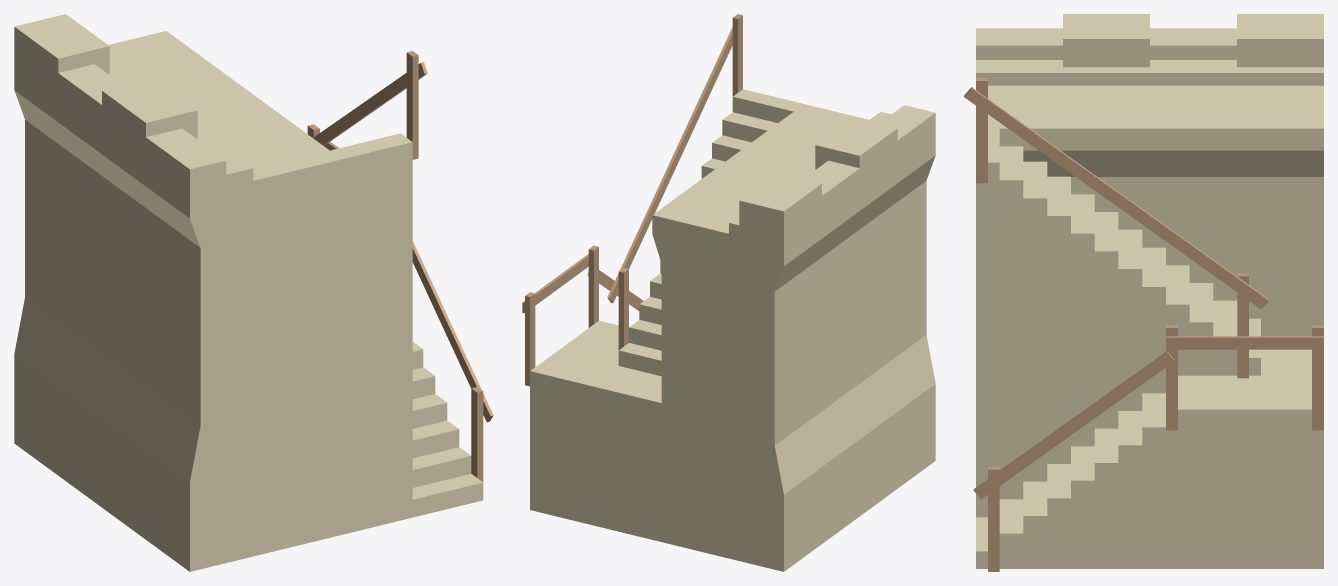
The model's file is wallnarrowstairsfence.glb.
3 renders of one model, left to right at view 1: azimuth 30°, elevation 25°; view 2: azimuth 150°, elevation 25°; view 3: azimuth 270°, elevation 25°, orthographic. The views are drawn at different scales.
Parts seen in each view (by area): view 1: wallNarrowStairsFence, rail 13; view 2: wallNarrowStairsFence, rail 13; view 3: wallNarrowStairsFence, rail 13.
Boxes of the visible parts, x1,y1,x2,y2 form: wallNarrowStairsFence: (14, 14, 483, 571); rail 13: (307, 51, 493, 481); wallNarrowStairsFence: (530, 89, 935, 571); rail 13: (522, 14, 742, 386); wallNarrowStairsFence: (976, 14, 1323, 568); rail 13: (964, 78, 1323, 571).
Size of the model in its own units: 9.95 by 14.48 by 10.34.
